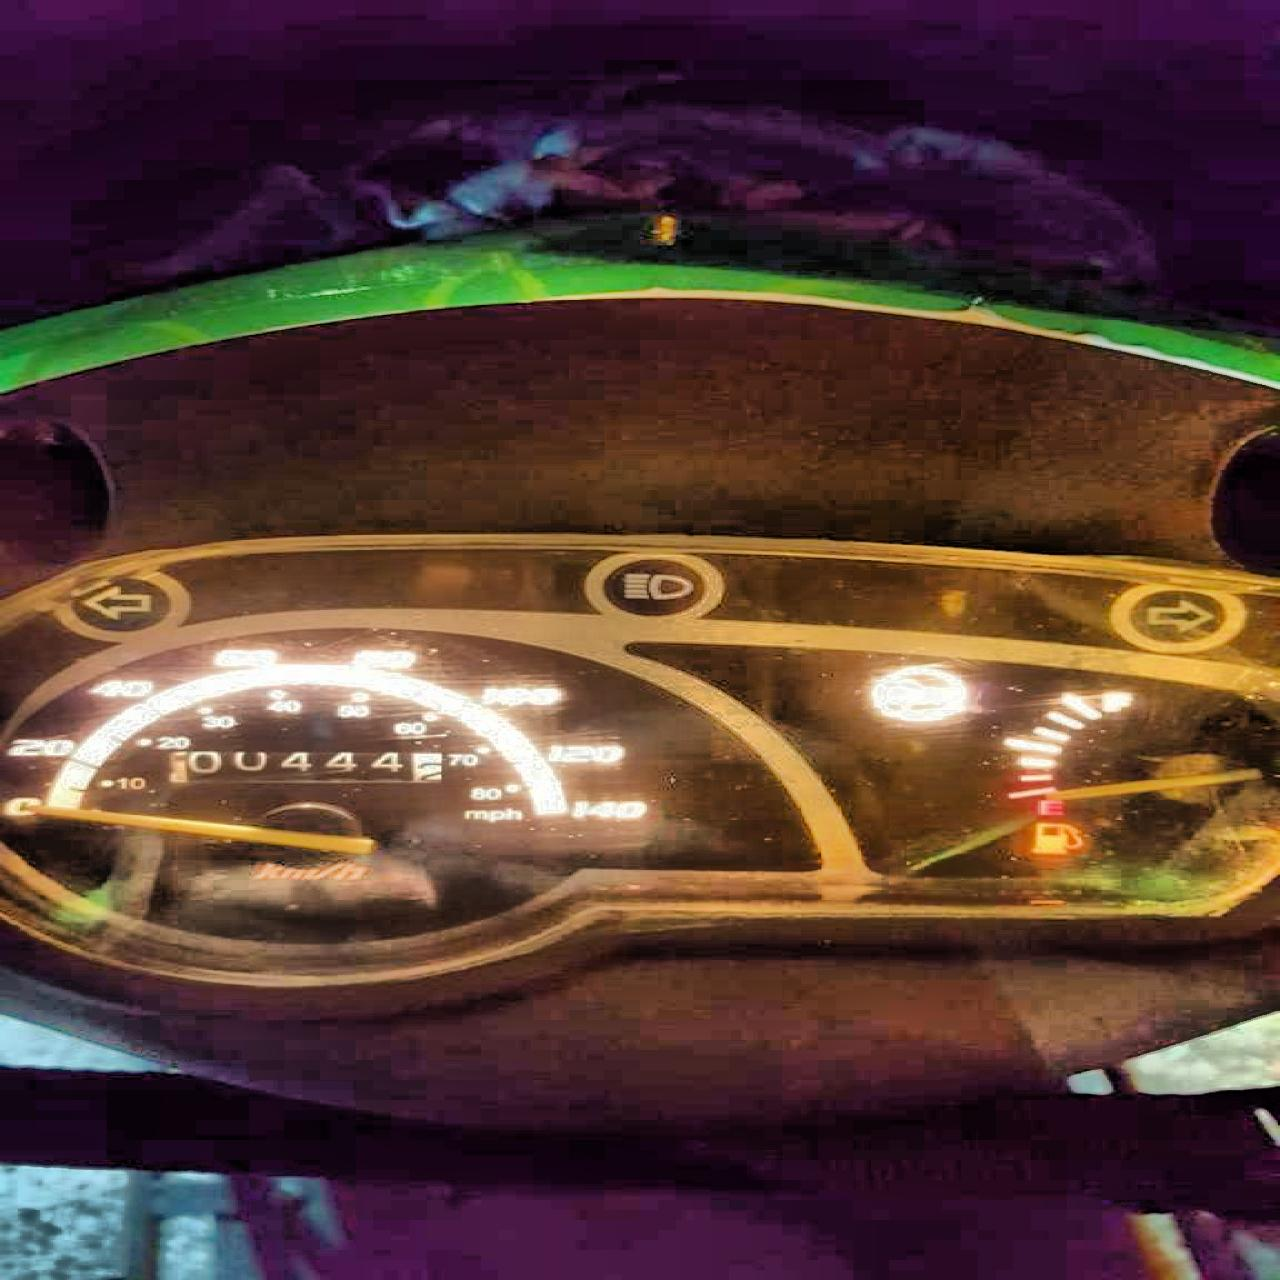0: (187, 750, 220, 775), (231, 749, 265, 771)
2: (414, 760, 444, 784)
4: (276, 748, 314, 774), (322, 748, 358, 772), (369, 748, 402, 774)
odometer: (162, 746, 449, 788)
